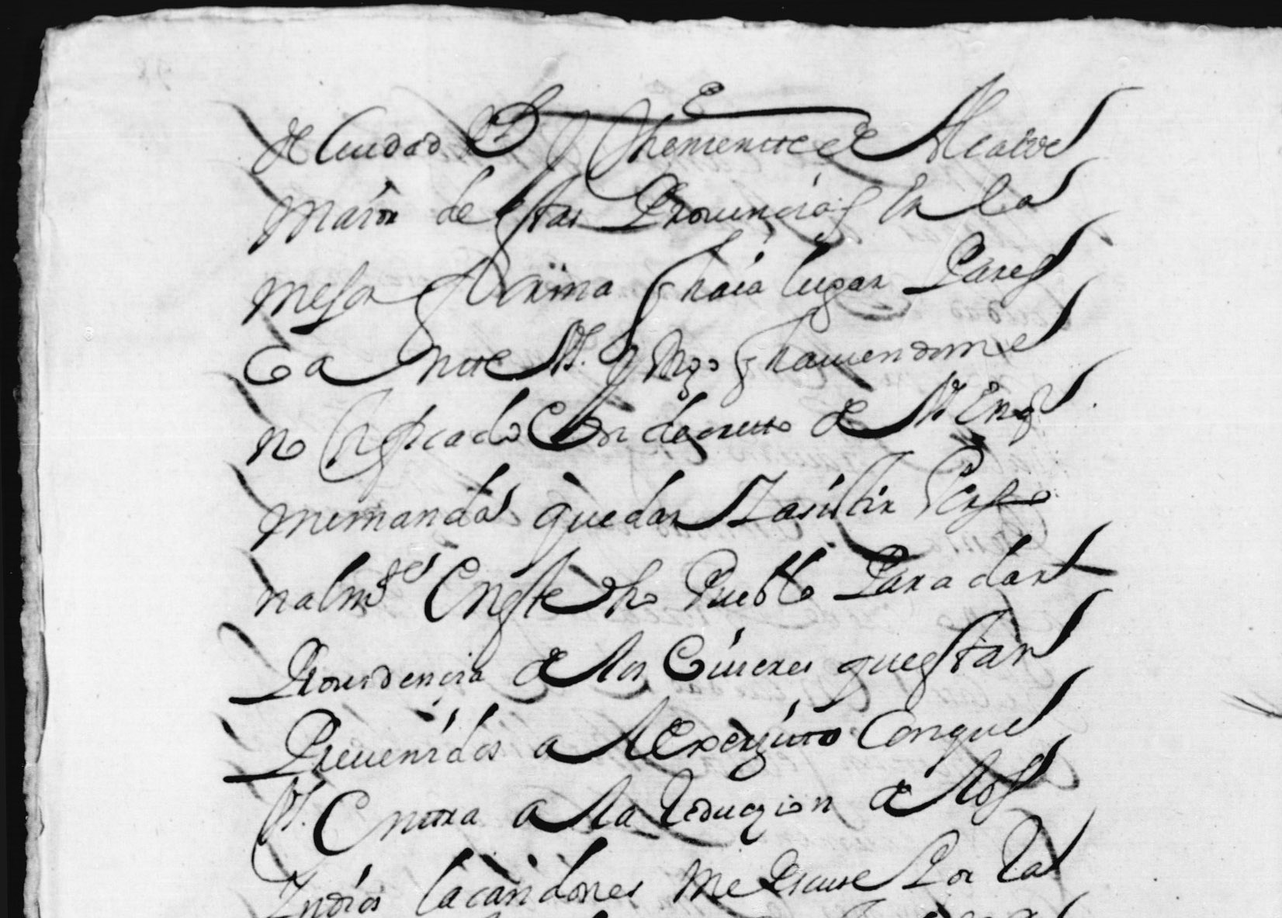lacandon: (415, 836, 643, 916)
